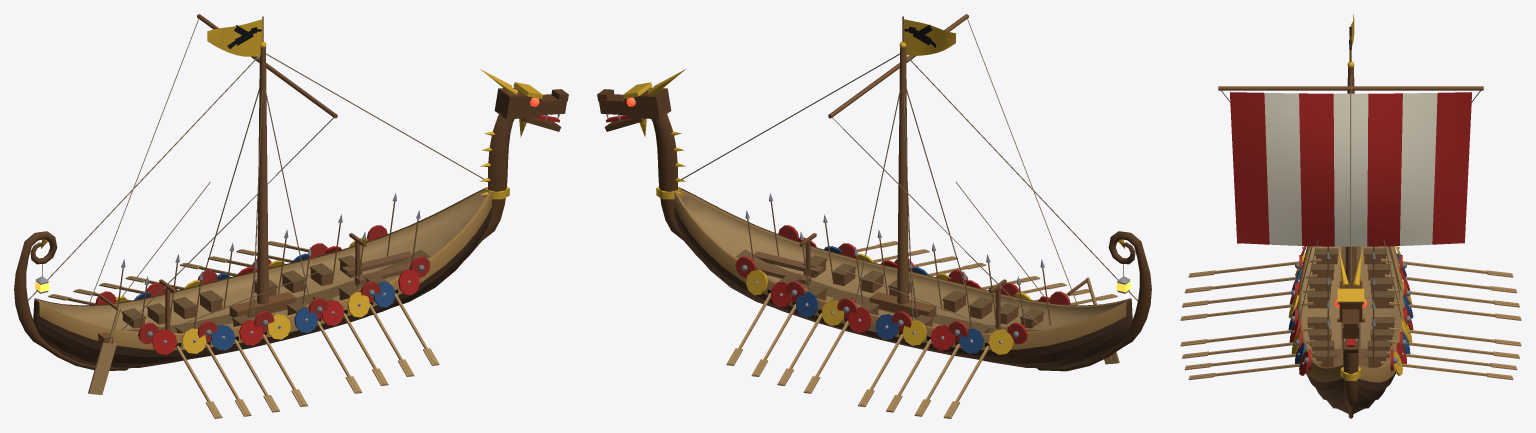
Rendered from longship-boarding-2.glb.
The picture shows the model from 3 angles, left to right: view 1: azimuth 30°, elevation 25°; view 2: azimuth 150°, elevation 25°; view 3: azimuth 270°, elevation 25°; orthographic projection. The views are drawn at different scales.
Parts seen in each view (by area): view 1: Mesh_DeckAndBulwarks, Mesh_Hull, Mesh_TrimSheerStrake, Mesh_MastPole, Mesh_DragonTail, Mesh_DragonNeck, Mesh_Flag_Raven, Mesh_DeckLane, Mesh_DragonSkull, Mesh_MastFish, Mesh_SteerOarBlade, Mesh_YardArm (+1 smaller); view 2: Mesh_DeckAndBulwarks, Mesh_Hull, Mesh_TrimSheerStrake, Mesh_MastPole, Mesh_DragonTail, Mesh_DragonNeck, Mesh_Flag_Raven, Mesh_DeckLane, Mesh_DragonSkull, Mesh_MastFish, Mesh_YardArm, Mesh_BoardingBridge_0.48; view 3: Mesh_Sail_Main, Mesh_Sail_Stripe1, Mesh_Sail_Stripe2, Mesh_Sail_Stripe0, Mesh_Sail_Stripe3, Mesh_DeckAndBulwarks, Mesh_TrimSheerStrake, Mesh_Hull, Mesh_YardArm, Mesh_DragonNeck, Mesh_MastPole, Mesh_OarL1Loom (+20 smaller).
Boxes of the visible parts, bbox=[...] form: Mesh_DeckAndBulwarks: bbox=[35, 190, 486, 329]; Mesh_Hull: bbox=[33, 207, 491, 367]; Mesh_TrimSheerStrake: bbox=[34, 187, 491, 349]; Mesh_MastPole: bbox=[257, 47, 268, 304]; Mesh_DragonTail: bbox=[14, 231, 127, 370]; Mesh_DragonNeck: bbox=[465, 112, 514, 259]; Mesh_Flag_Raven: bbox=[207, 19, 262, 56]; Mesh_DeckLane: bbox=[124, 249, 430, 332]; Mesh_DragonSkull: bbox=[494, 87, 541, 119]; Mesh_MastFish: bbox=[229, 292, 296, 317]; Mesh_SteerOarBlade: bbox=[88, 342, 116, 394]; Mesh_YardArm: bbox=[197, 14, 337, 118]; Mesh_DeckAndBulwarks: bbox=[679, 190, 1130, 329]; Mesh_Hull: bbox=[674, 207, 1132, 367]; Mesh_TrimSheerStrake: bbox=[674, 187, 1131, 349]; Mesh_MastPole: bbox=[897, 47, 908, 304]; Mesh_DragonTail: bbox=[1038, 231, 1151, 371]; Mesh_DragonNeck: bbox=[651, 112, 700, 259]; Mesh_Flag_Raven: bbox=[903, 19, 955, 55]; Mesh_DeckLane: bbox=[735, 249, 1041, 332]; Mesh_DragonSkull: bbox=[624, 87, 671, 119]; Mesh_MastFish: bbox=[869, 292, 936, 317]; Mesh_YardArm: bbox=[828, 14, 968, 118]; Mesh_BoardingBridge_0.48: bbox=[754, 251, 823, 275]; Mesh_Sail_Main: bbox=[1264, 93, 1437, 246]; Mesh_Sail_Stripe1: bbox=[1367, 93, 1402, 246]; Mesh_Sail_Stripe2: bbox=[1299, 93, 1334, 246]; Mesh_Sail_Stripe0: bbox=[1432, 92, 1471, 244]; Mesh_Sail_Stripe3: bbox=[1230, 92, 1269, 244]; Mesh_DeckAndBulwarks: bbox=[1301, 246, 1400, 368]; Mesh_TrimSheerStrake: bbox=[1296, 246, 1405, 382]; Mesh_Hull: bbox=[1306, 372, 1395, 413]; Mesh_YardArm: bbox=[1218, 86, 1483, 90]; Mesh_DragonNeck: bbox=[1343, 339, 1358, 418]; Mesh_MastPole: bbox=[1345, 67, 1356, 281]; Mesh_OarL1Loom: bbox=[1384, 274, 1517, 293].
Bounding box in the file's own units: 24.36 × 13.54 × 13.51.
